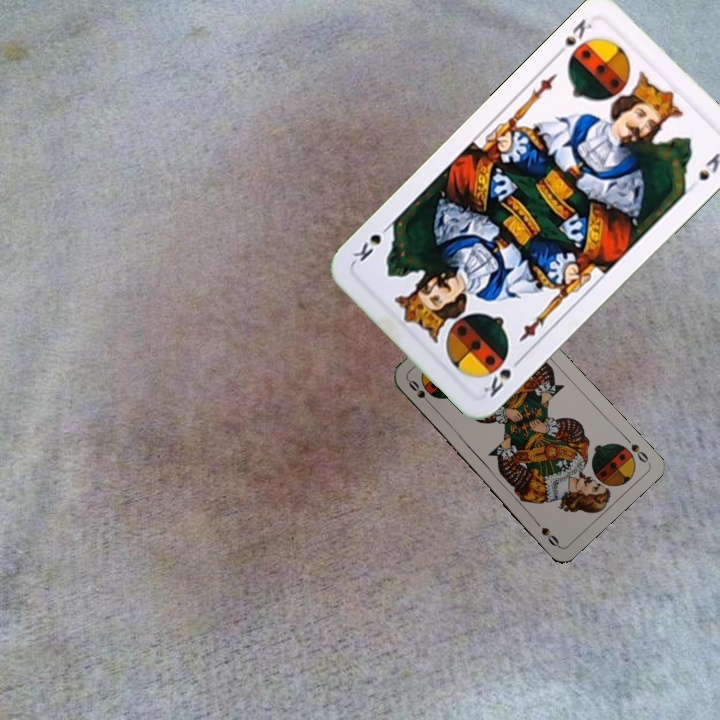SK: (479, 353, 526, 400), (551, 14, 595, 61)
SO: (404, 376, 435, 410), (620, 433, 651, 466)
